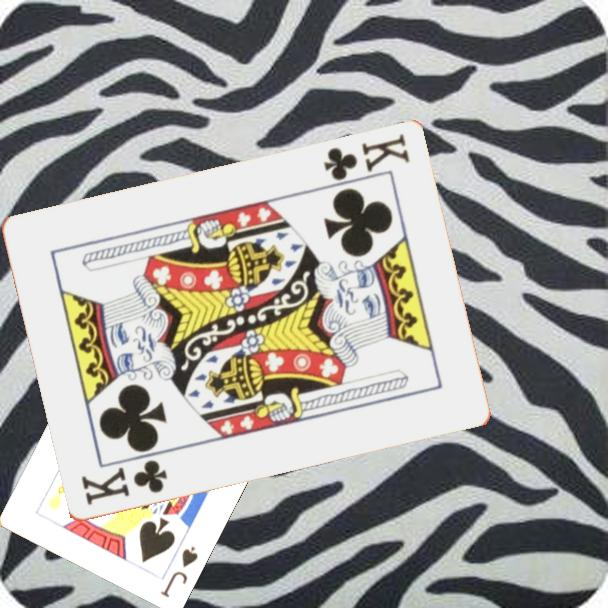c13: (319, 130, 413, 184), (77, 457, 170, 509)
s11: (156, 542, 201, 600)
